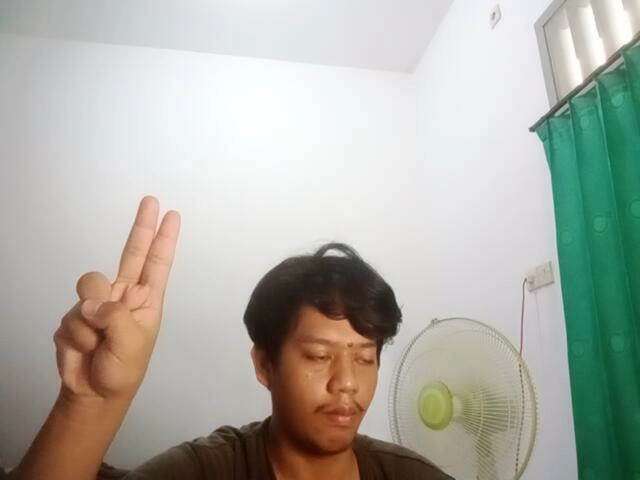U: (35, 191, 192, 409)
